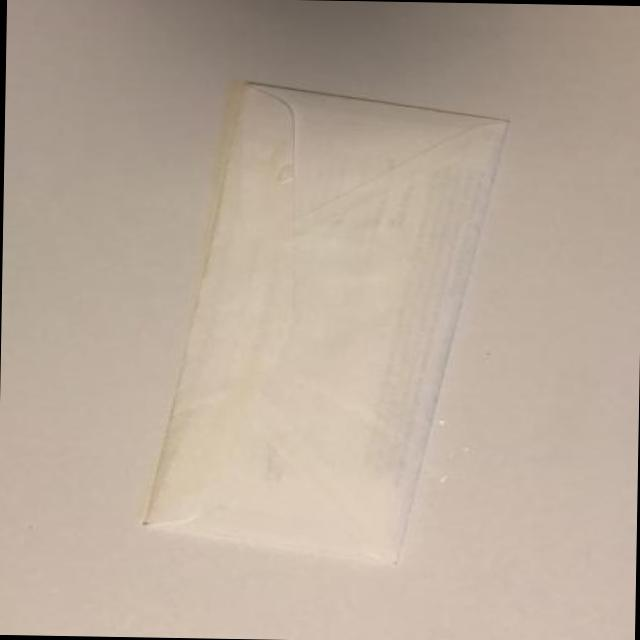paper: (168, 85, 446, 580)
